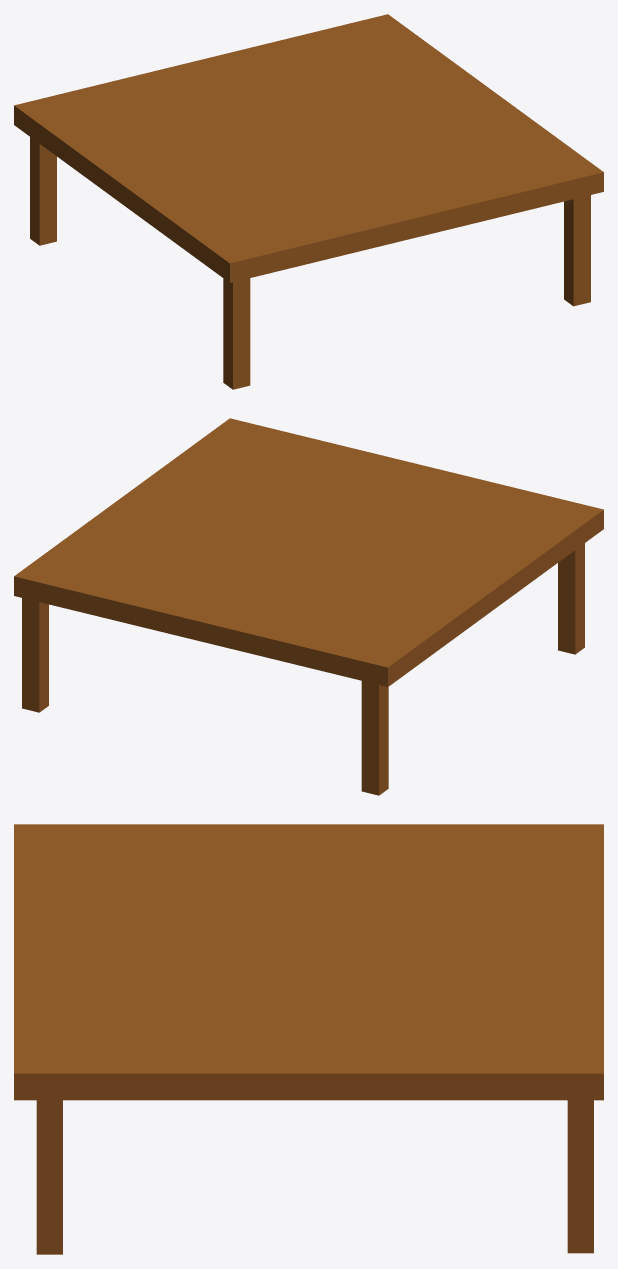
File: Table_lar.glb
3 renders of one model, top to bottom at view 1: azimuth 30°, elevation 25°; view 2: azimuth 150°, elevation 25°; view 3: azimuth 270°, elevation 25°, orthographic. The views are drawn at different scales.
Visible parts, largest first — view 1: Floor, Floor.001, Floor.002, Floor.003; view 2: Floor, Floor.003, Floor.004, Floor.001; view 3: Floor, Floor.002, Floor.004.
Part boxes in pixels (x1=…): Floor: x1=14, y1=14, x2=603, y2=282; Floor.001: x1=223, y1=278, x2=250, y2=389; Floor.002: x1=564, y1=195, x2=590, y2=306; Floor.003: x1=30, y1=137, x2=56, y2=245; Floor: x1=14, y1=418, x2=603, y2=686; Floor.003: x1=361, y1=681, x2=388, y2=795; Floor.004: x1=22, y1=598, x2=48, y2=712; Floor.001: x1=558, y1=543, x2=584, y2=654; Floor: x1=14, y1=824, x2=603, y2=1100; Floor.002: x1=36, y1=1100, x2=62, y2=1254; Floor.004: x1=567, y1=1100, x2=593, y2=1253.
Size of the model in its own units: 4 by 1.38 by 4.
